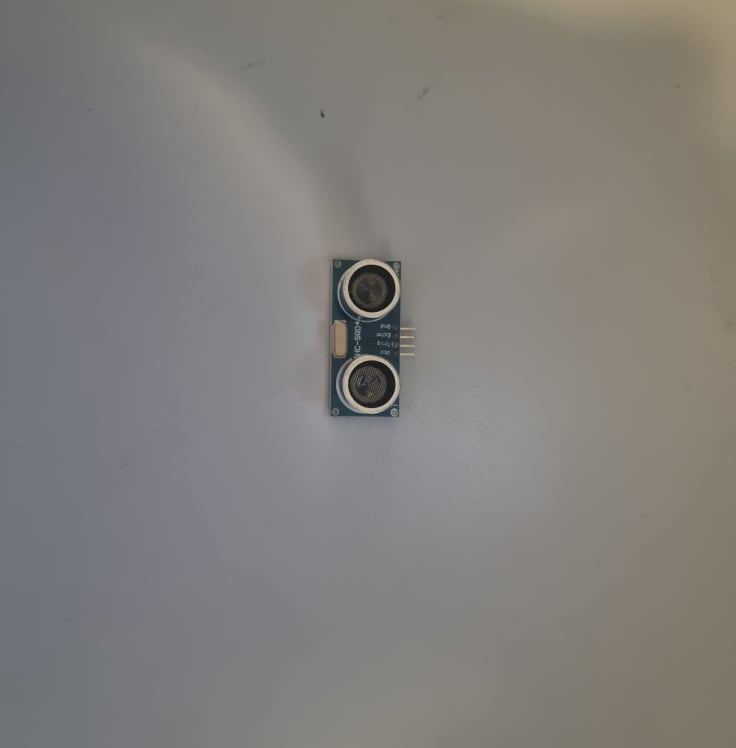SENSOR: (330, 256, 402, 418)
